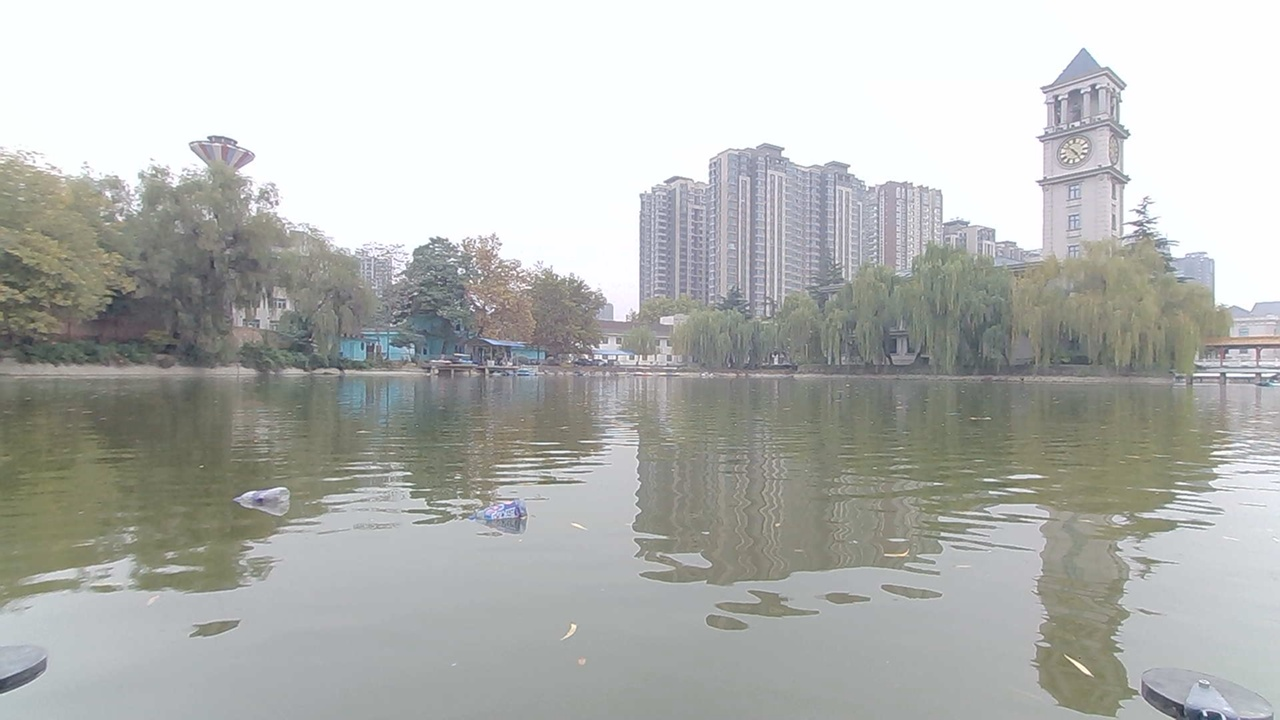bottle: (247, 484, 286, 510), (488, 509, 521, 526)
